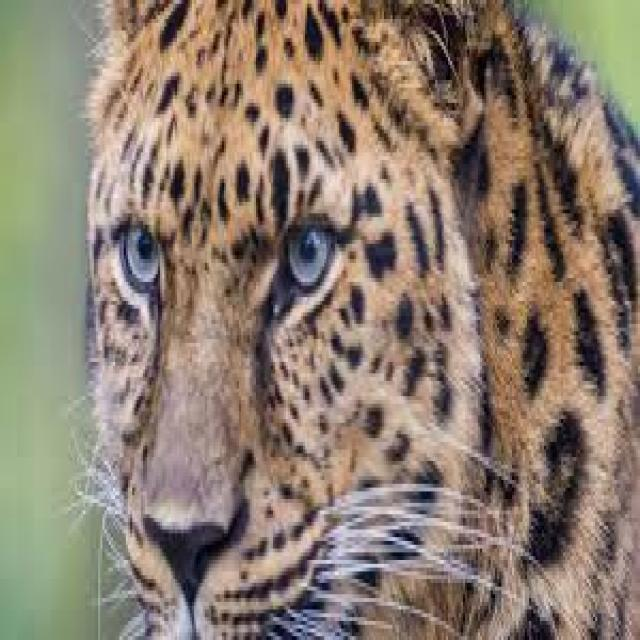Leopard: (81, 1, 640, 640)
